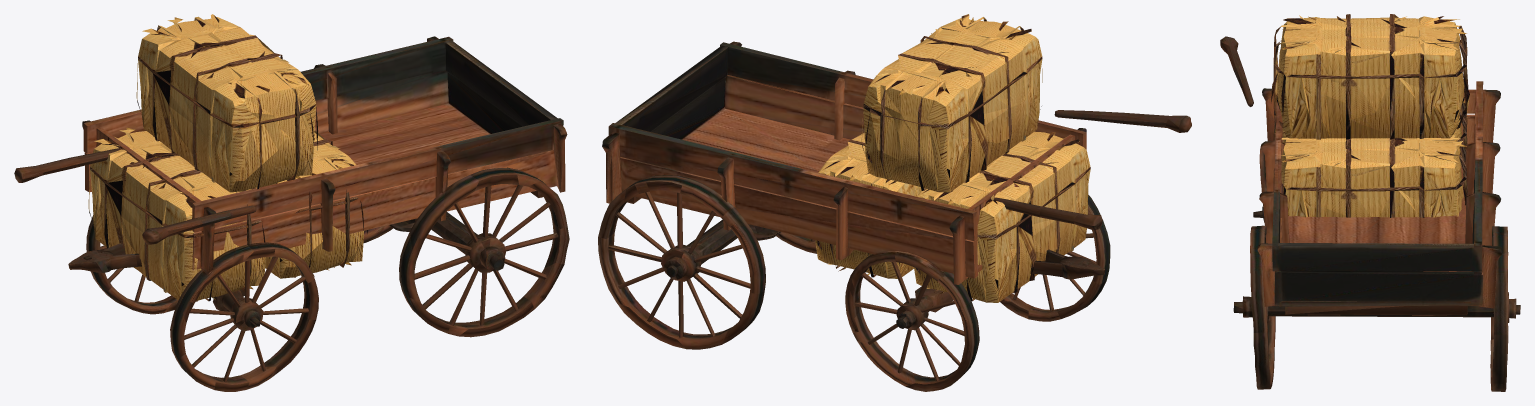
File: loaded-cart.glb
The picture shows the model from 3 angles, left to right: view 1: azimuth 30°, elevation 25°; view 2: azimuth 150°, elevation 25°; view 3: azimuth 270°, elevation 25°; orthographic projection. The views are drawn at different scales.
Bounding box in the file's own units: 2.2 × 1.34 × 1.36.
2 materials, 2 textured.
